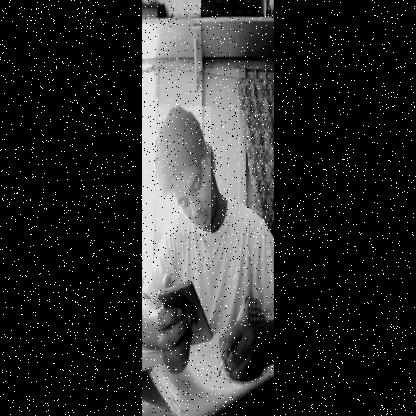Distracted: (157, 106, 211, 233)
